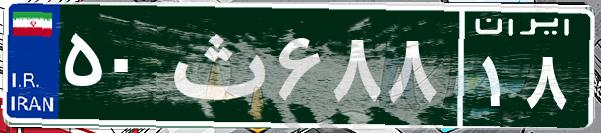0: (110, 28, 158, 105)
1: (475, 38, 525, 113)
5: (57, 26, 110, 107)
6: (273, 28, 330, 110)
8: (385, 28, 445, 110), (330, 28, 385, 110), (525, 38, 570, 115)
ث: (158, 15, 273, 115)
